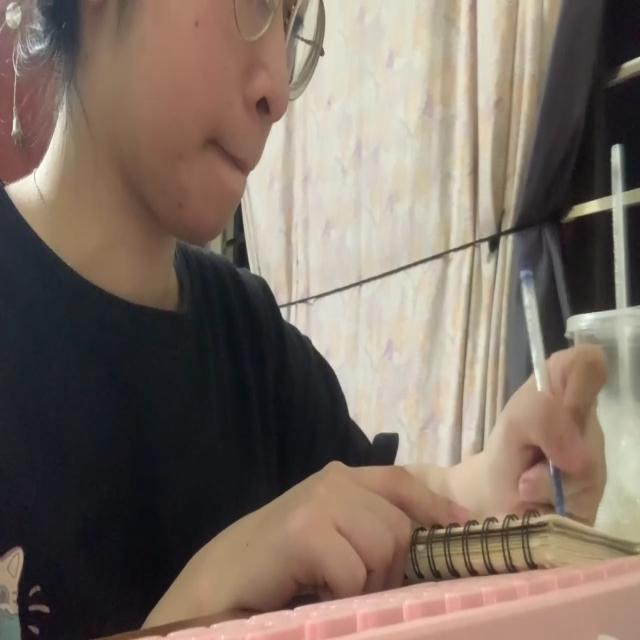book: (406, 514, 636, 574)
student: (0, 0, 610, 640)
